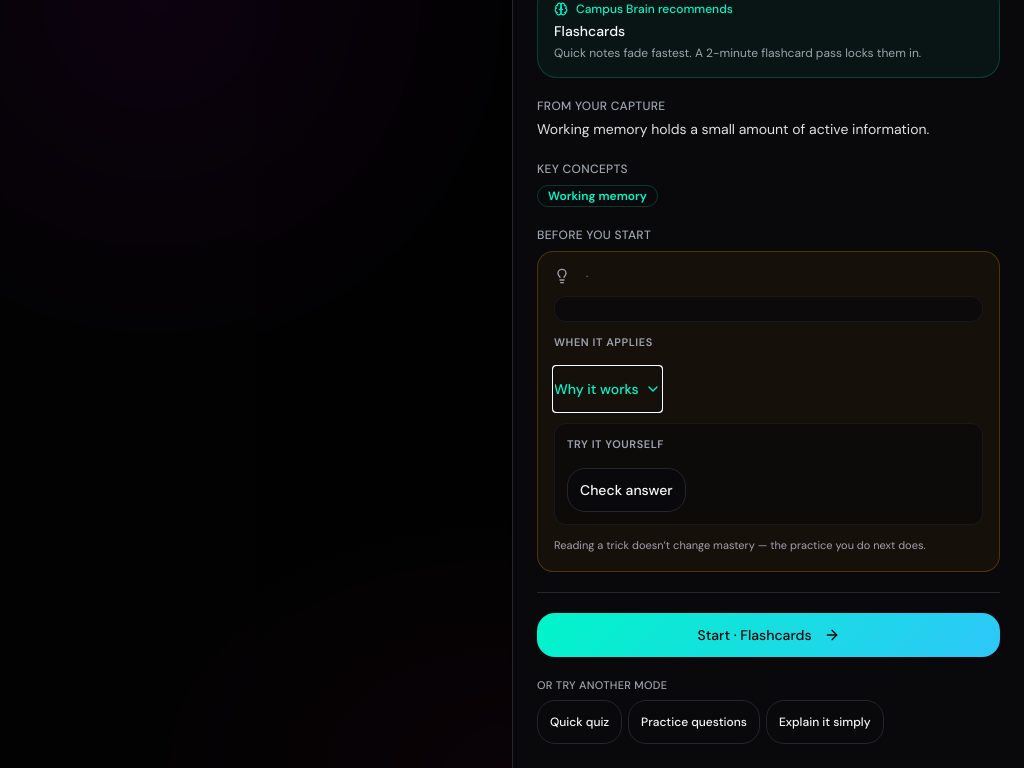
it: StudyFromCaptureDrawer persistence boundary › completes demo study locally without topic or aggregate writes
(page scrolled)
Click the button "Start · Flashcards". click: point(768, 635)
box: [537,613,1000,657]
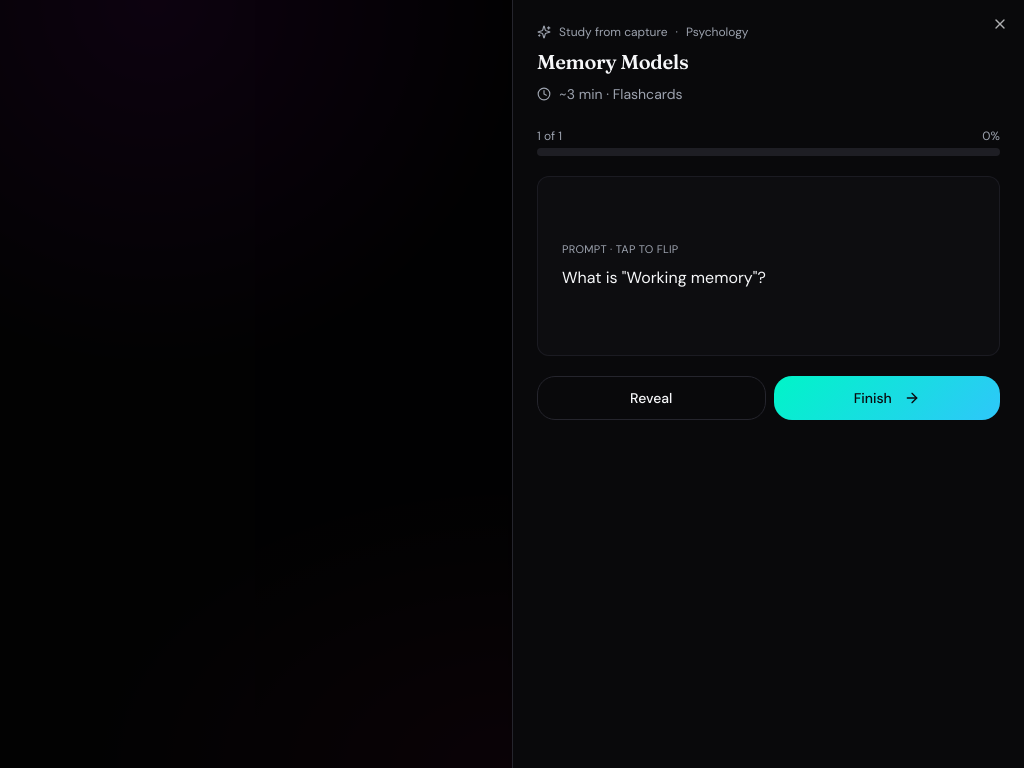
Click the button "Reveal". click: point(651, 398)
box: [537,376,766,420]
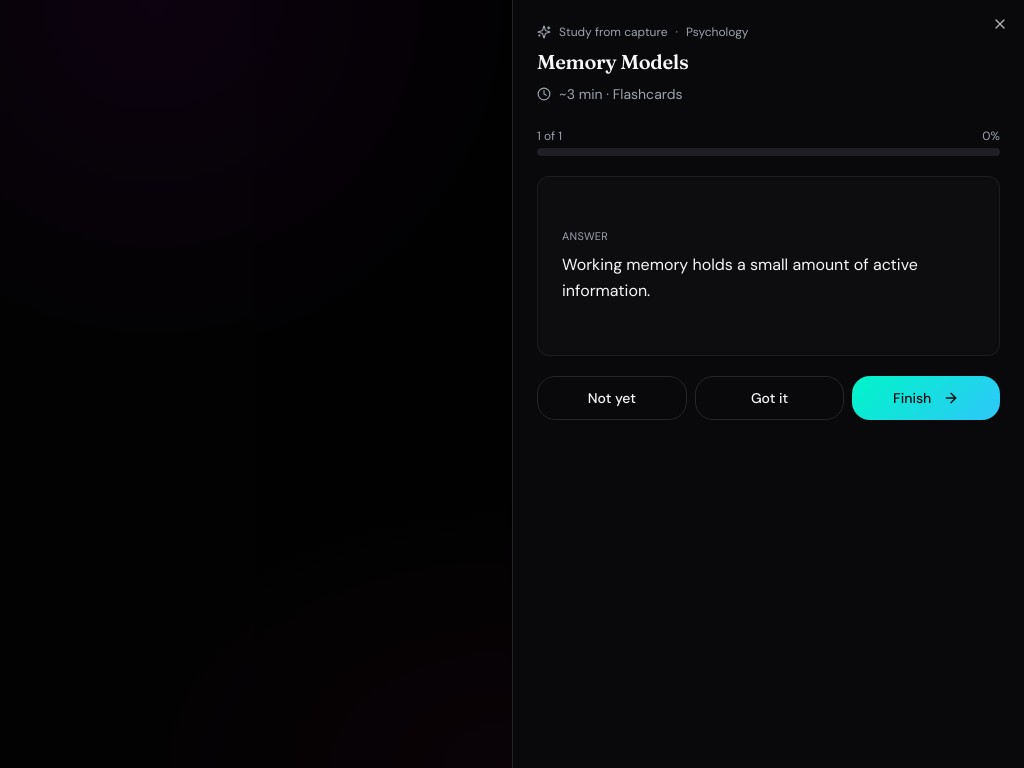
Click the button "Got it". click: point(770, 398)
box: [695,376,844,420]
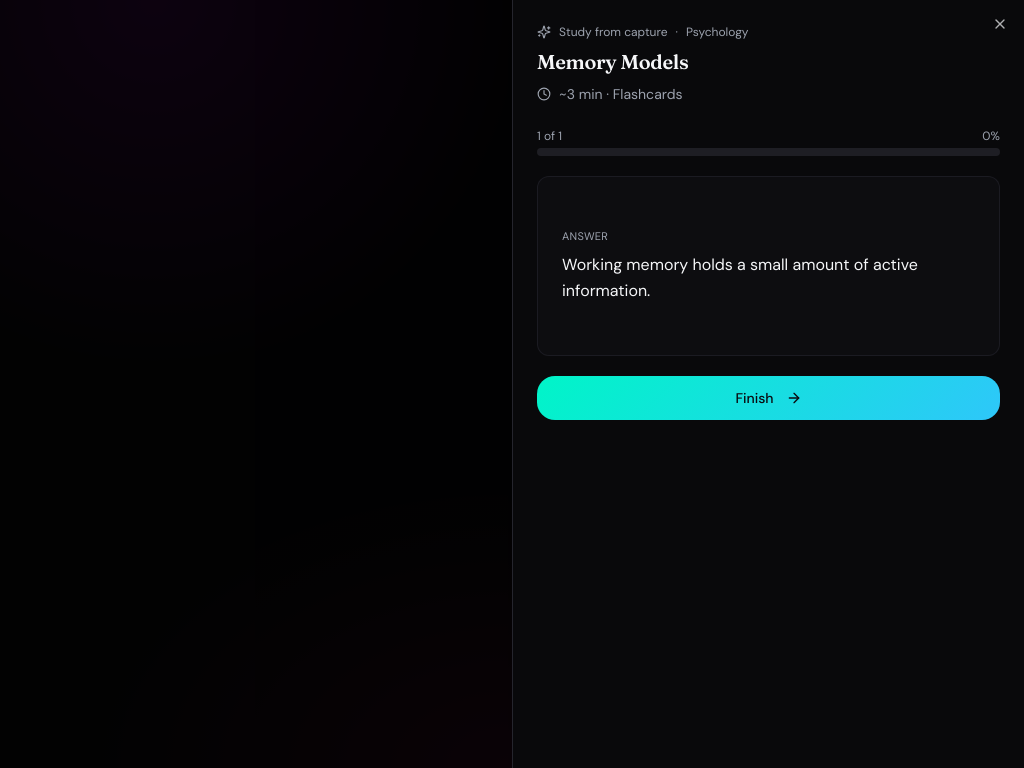
Click the button "Finish". click: point(768, 398)
box: [537,376,1000,420]
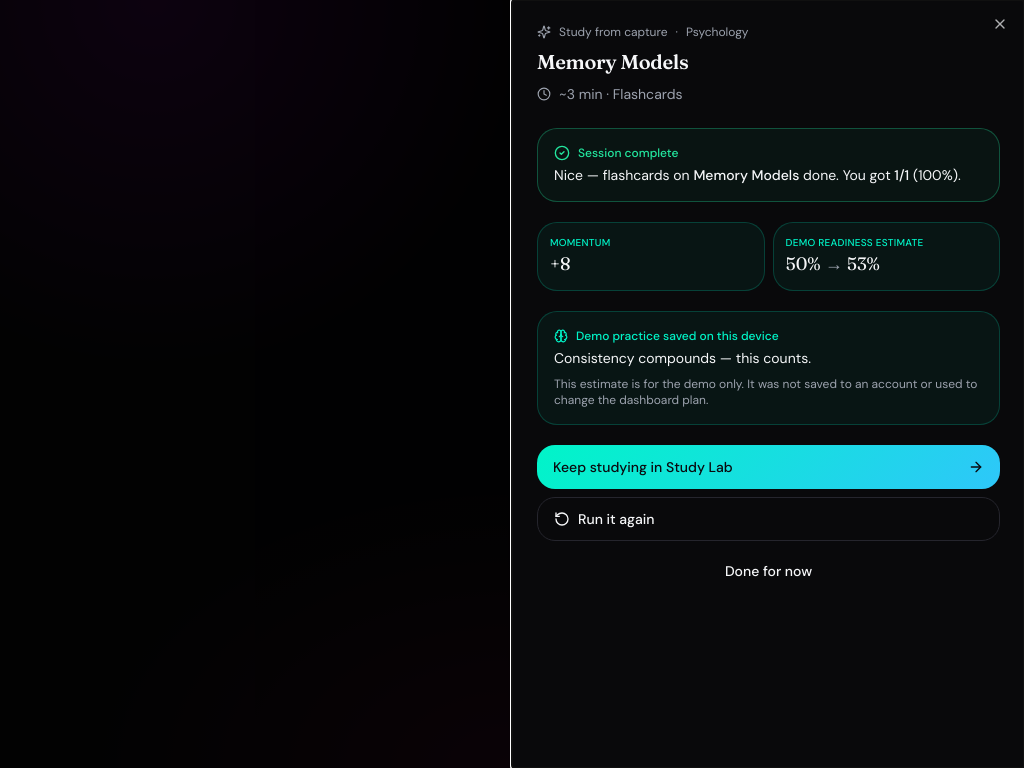
Now the text "Demo readiness estimate" is shown, box [786,236,923,249]
Now the text "Demo practice saved on this device" is shown, box [554,328,779,344]
Now the text "not saved to an account" is shown, box [554,376,977,408]
